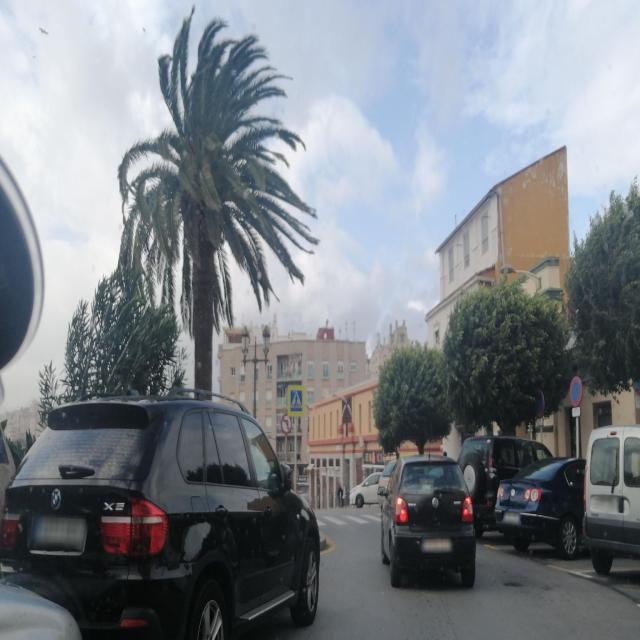forb_stopping: (569, 376, 583, 407)
